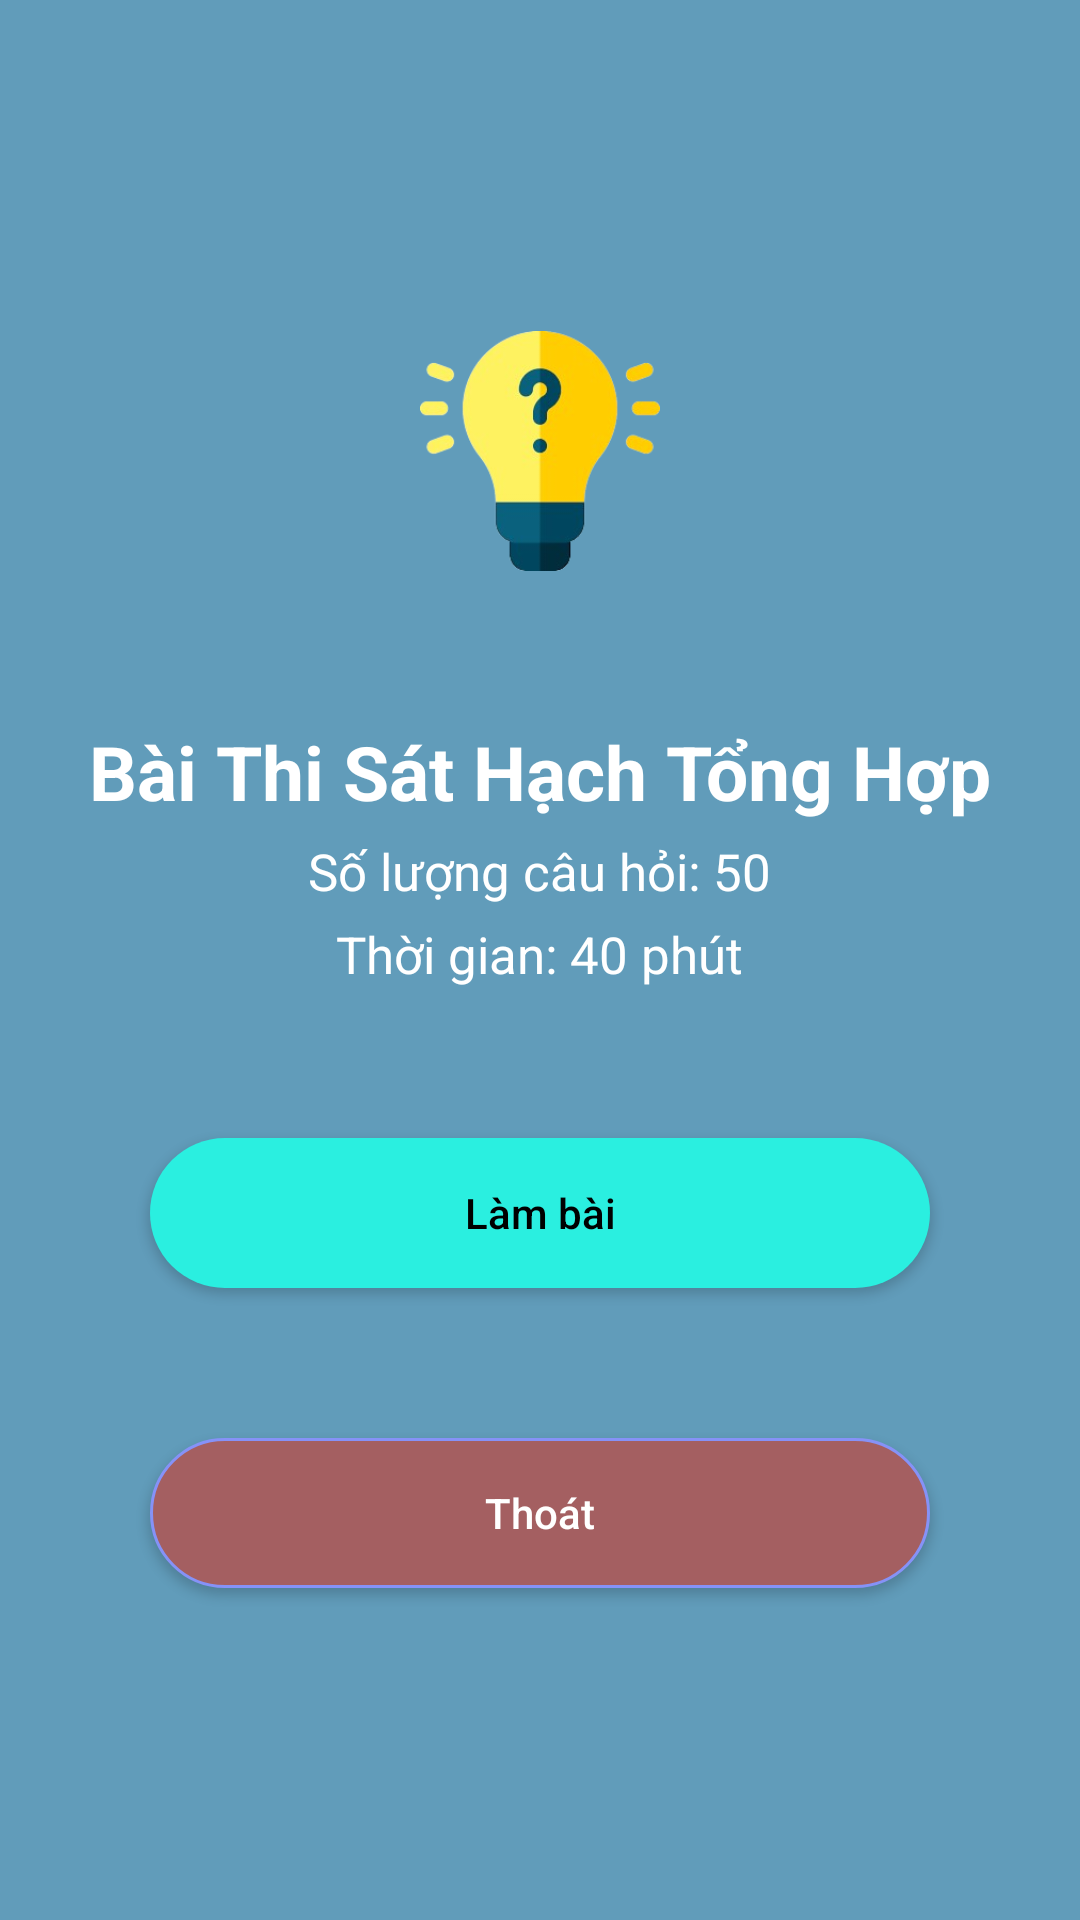

Icon click points for this 1080*1920 phone screenshot, format (x,y):
quiz: (540,451)
